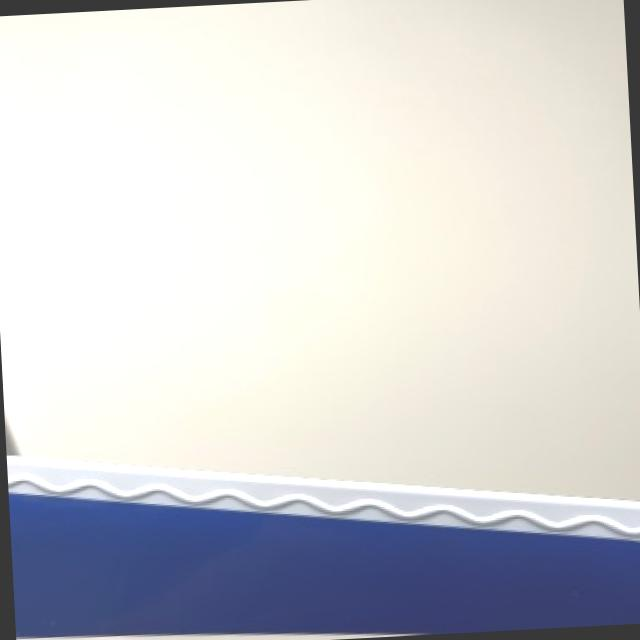healthy: (9, 456, 640, 635)
